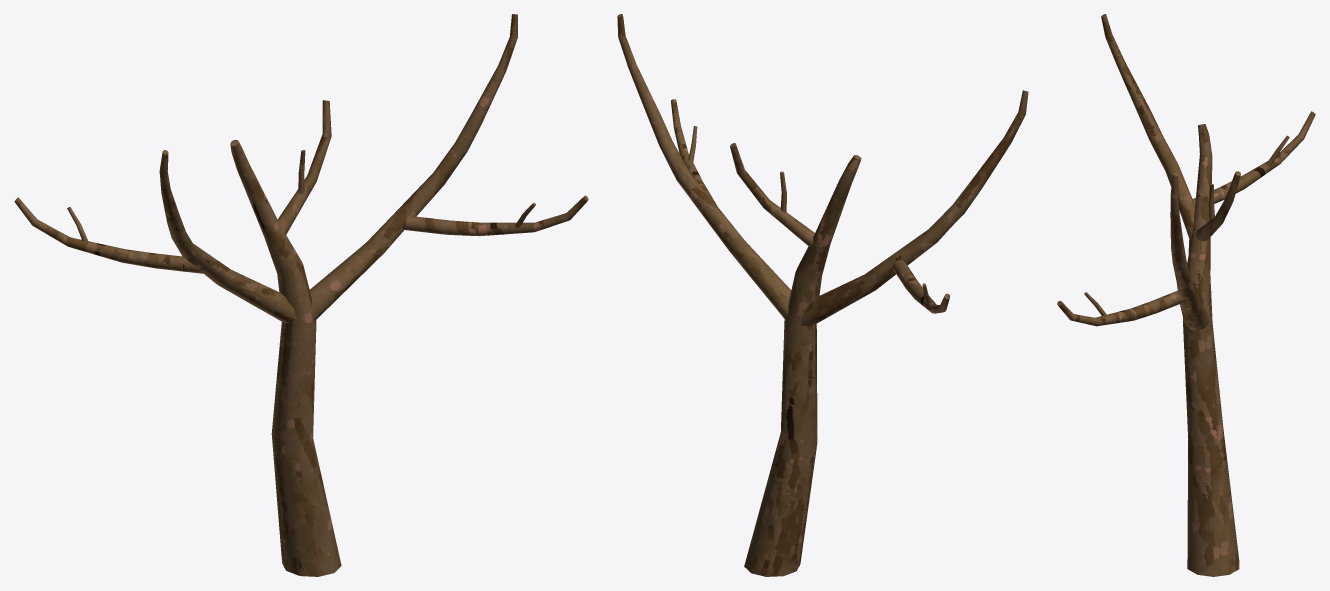
File: quaternius-textured-stylized-trees-dead-tree-5.glb
3 views of the same model, side by side, from view 1: azimuth 30°, elevation 25°; view 2: azimuth 150°, elevation 25°; view 3: azimuth 270°, elevation 25° (orthographic). The views are drawn at different scales.
Visible parts, largest first — view 1: DeadTree_5; view 2: DeadTree_5; view 3: DeadTree_5.
Boxes of the visible parts, x1,y1,x2,y2 form: DeadTree_5: [14, 14, 588, 576]; DeadTree_5: [617, 14, 1028, 576]; DeadTree_5: [1057, 14, 1315, 576].
Size of the model in its own units: 5.24 by 6.02 by 2.99.
Materials: 1 (1 with a texture image).
